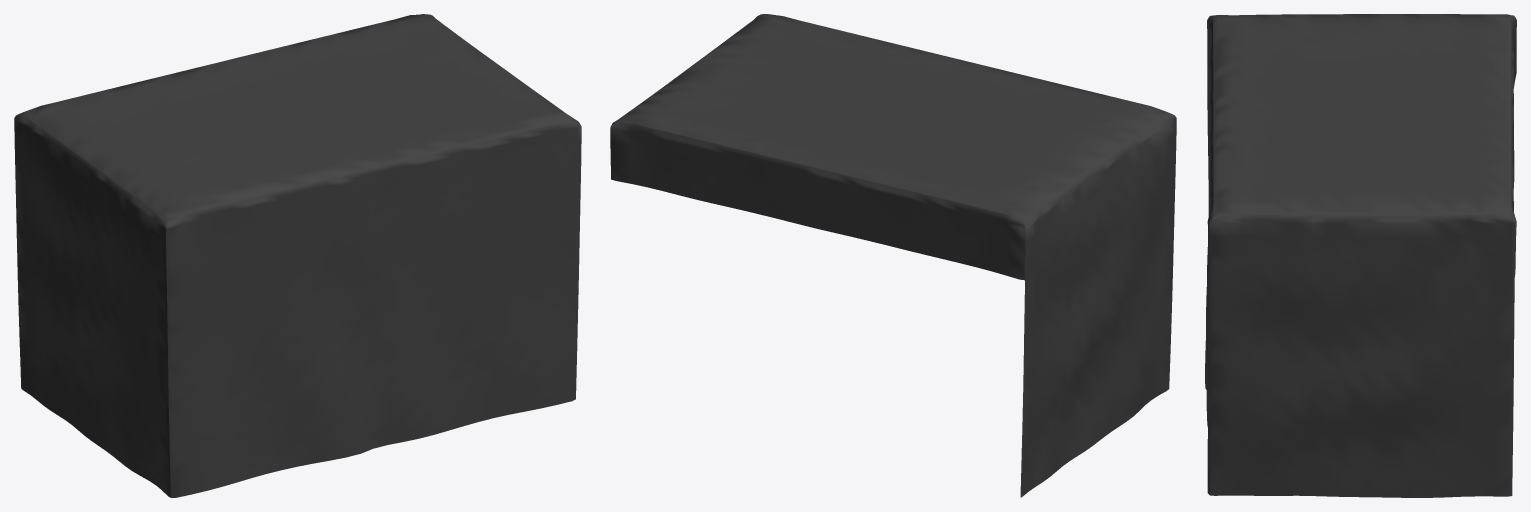
File: fitted-4ft-3-30.glb
3 views of the same model, side by side, from view 1: azimuth 30°, elevation 25°; view 2: azimuth 150°, elevation 25°; view 3: azimuth 270°, elevation 25° (orthographic).
Visible parts, largest first — view 1: geometry_0; view 2: geometry_0; view 3: geometry_0.
Boxes of the visible parts, x1=… form: geometry_0: x1=14, y1=14, x2=581, y2=497; geometry_0: x1=610, y1=14, x2=1176, y2=497; geometry_0: x1=1205, y1=14, x2=1516, y2=497.
Bounding box in the file's own units: 1.26 × 0.8065 × 0.7936.
1 material, 1 textured.
